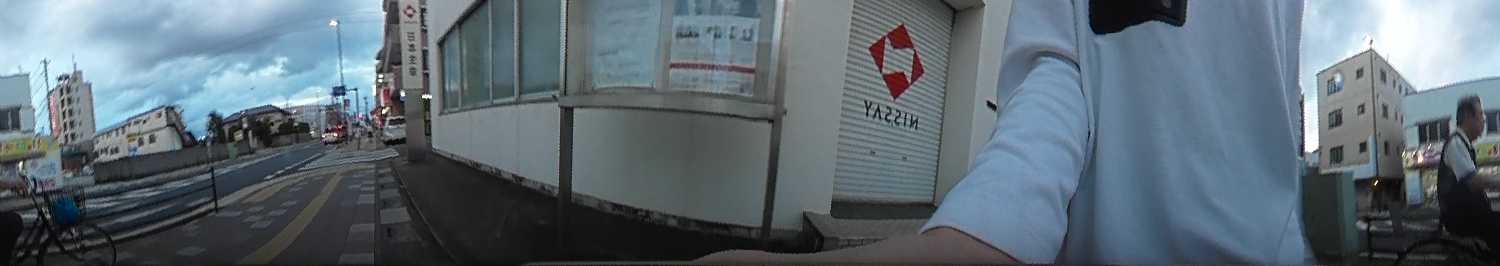difficult_person: (351, 120, 362, 150), (363, 120, 374, 143)
person: (1430, 91, 1500, 255)
